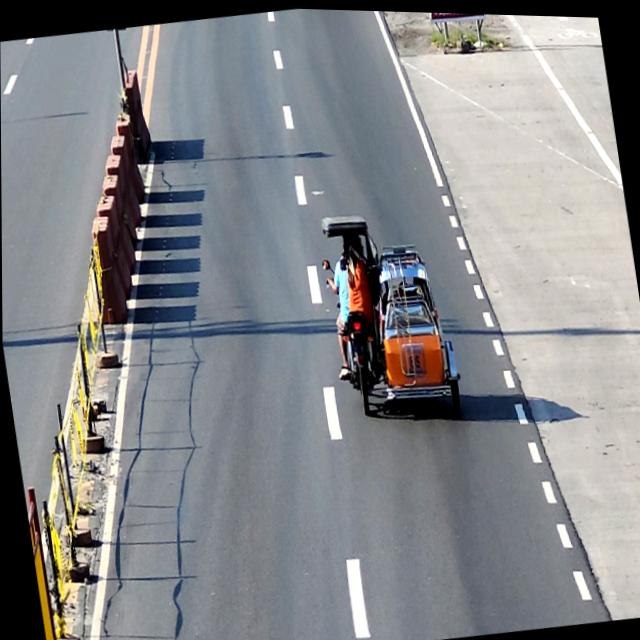Tricycle: (315, 200, 466, 429)
